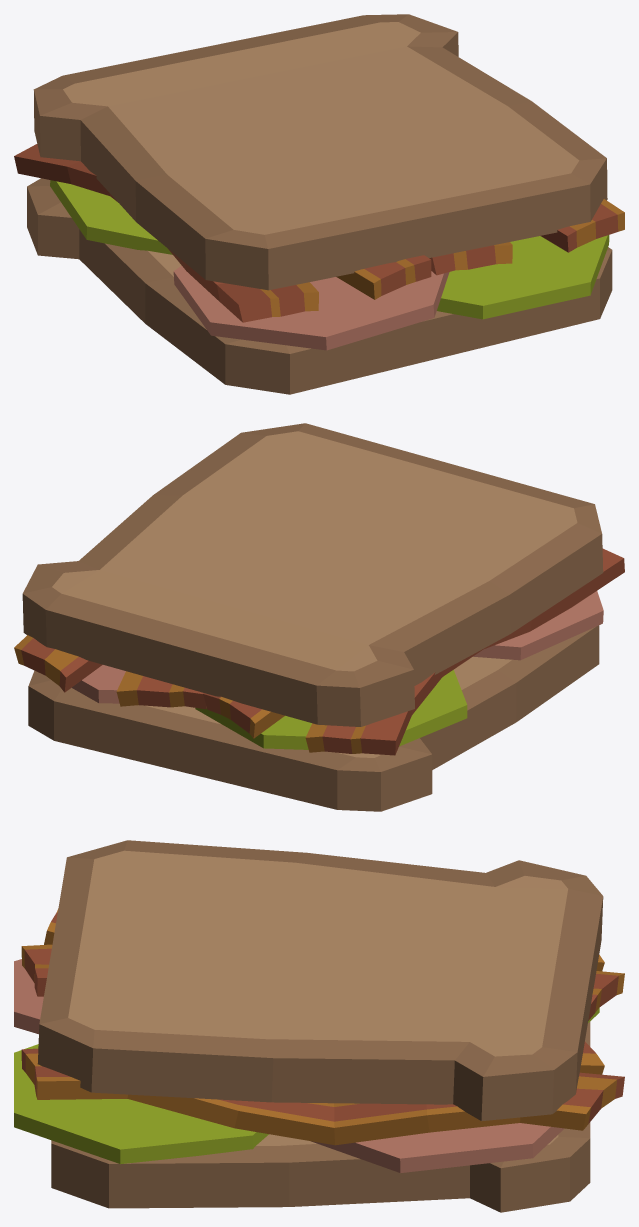
File: Sandwich.glb
The picture shows the model from 3 angles, top to bottom: view 1: azimuth 30°, elevation 25°; view 2: azimuth 150°, elevation 25°; view 3: azimuth 270°, elevation 25°; orthographic projection. The views are drawn at different scales.
Visible parts, largest first — view 1: Sandwich; view 2: Sandwich; view 3: Sandwich.
Boxes of the visible parts, x1,y1,x2,y2 form: Sandwich: (14, 14, 624, 394); Sandwich: (14, 423, 624, 811); Sandwich: (14, 840, 624, 1212).
Size of the model in its own units: 0.181 by 0.0614 by 0.2069.
